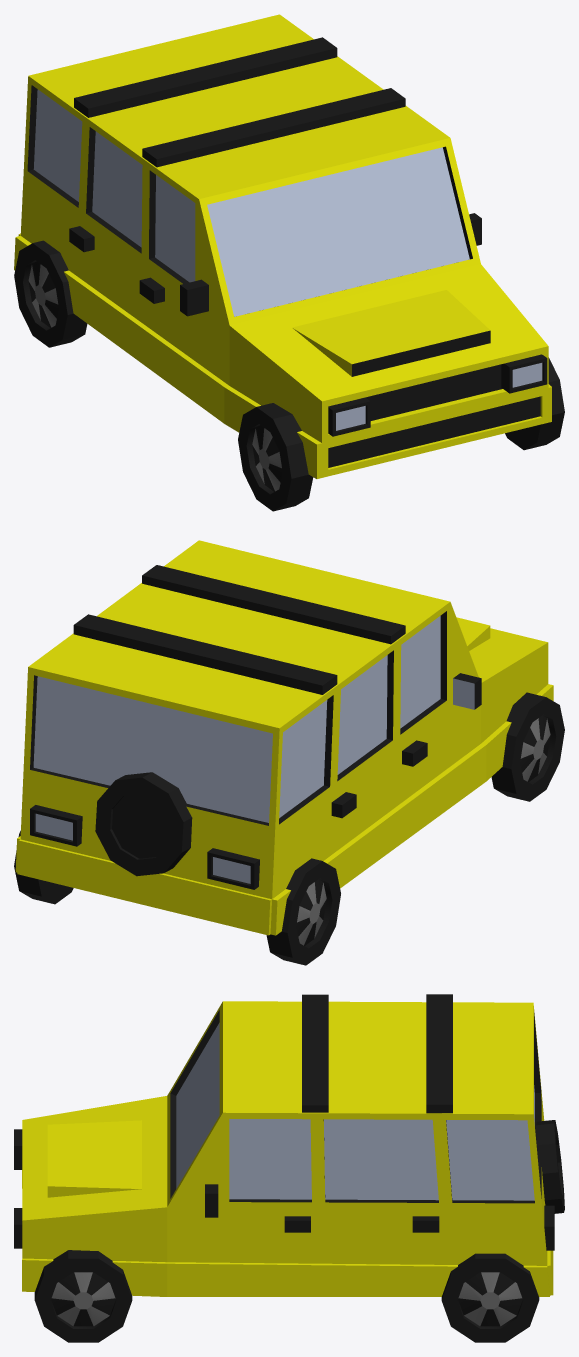
The model's file is Car 9.fbx.
3 views of the same model, one above another, from view 1: azimuth 30°, elevation 25°; view 2: azimuth 150°, elevation 25°; view 3: azimuth 270°, elevation 25° (orthographic). The views are drawn at different scales.
Visible parts, largest first — view 1: Car, Front Right Tire, Back Right Tire, Front Left Tire; view 2: Car, Front Right Tire, Back Right Tire, Back Left Tire; view 3: Car, Front Left Tire, Back Left Tire.
Part boxes in pixels (x1,y1,x2,y2): Car: [14, 14, 551, 478]; Front Right Tire: [238, 403, 313, 511]; Back Right Tire: [14, 240, 87, 347]; Front Left Tire: [505, 357, 564, 450]; Car: [15, 540, 553, 935]; Front Right Tire: [491, 692, 564, 801]; Back Right Tire: [266, 858, 340, 965]; Back Left Tire: [14, 830, 73, 904]; Car: [14, 994, 564, 1296]; Front Left Tire: [34, 1250, 132, 1342]; Back Left Tire: [441, 1253, 539, 1342].
Bounding box in the file's own units: 234 × 194 × 417.
